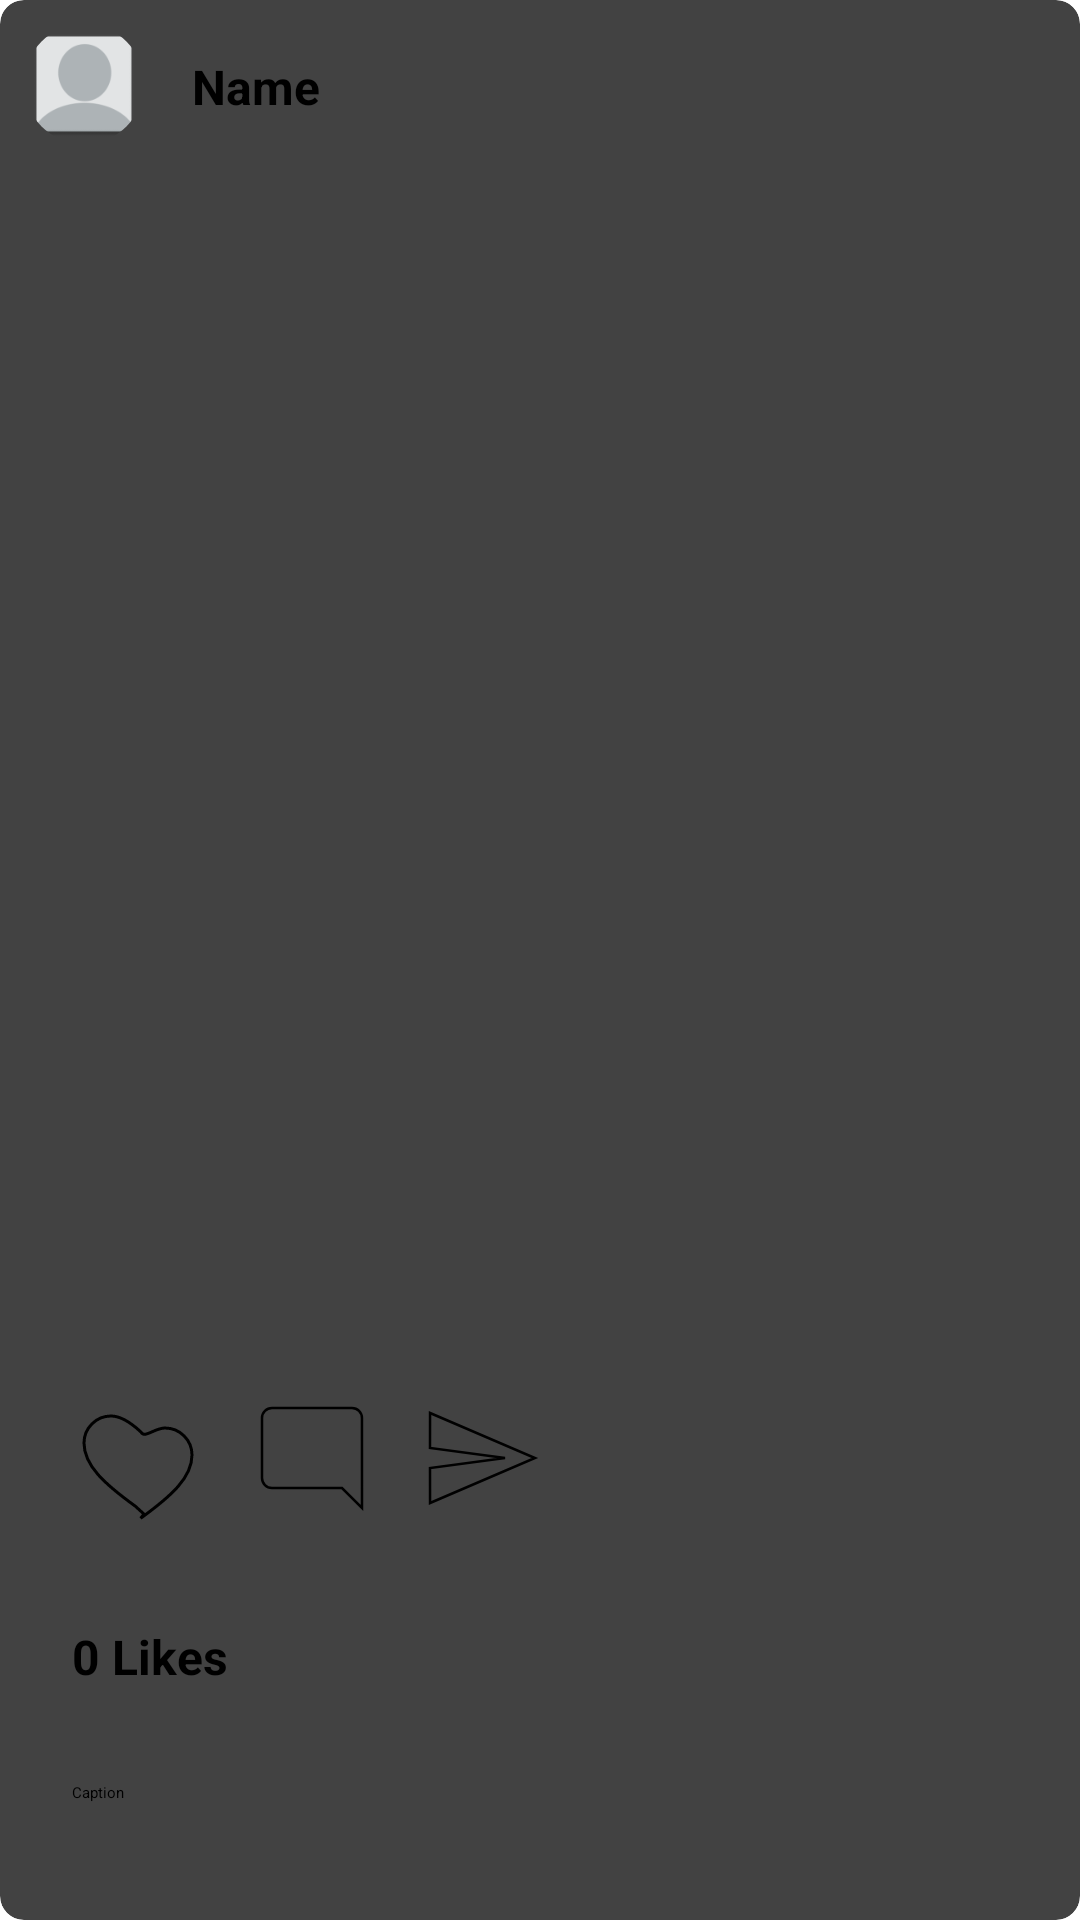

Named icons in this screenshot (1080w x 1920h) and their centers, (x=x, y=y):
comment: (x=312, y=1458)
share: (x=483, y=1458)
